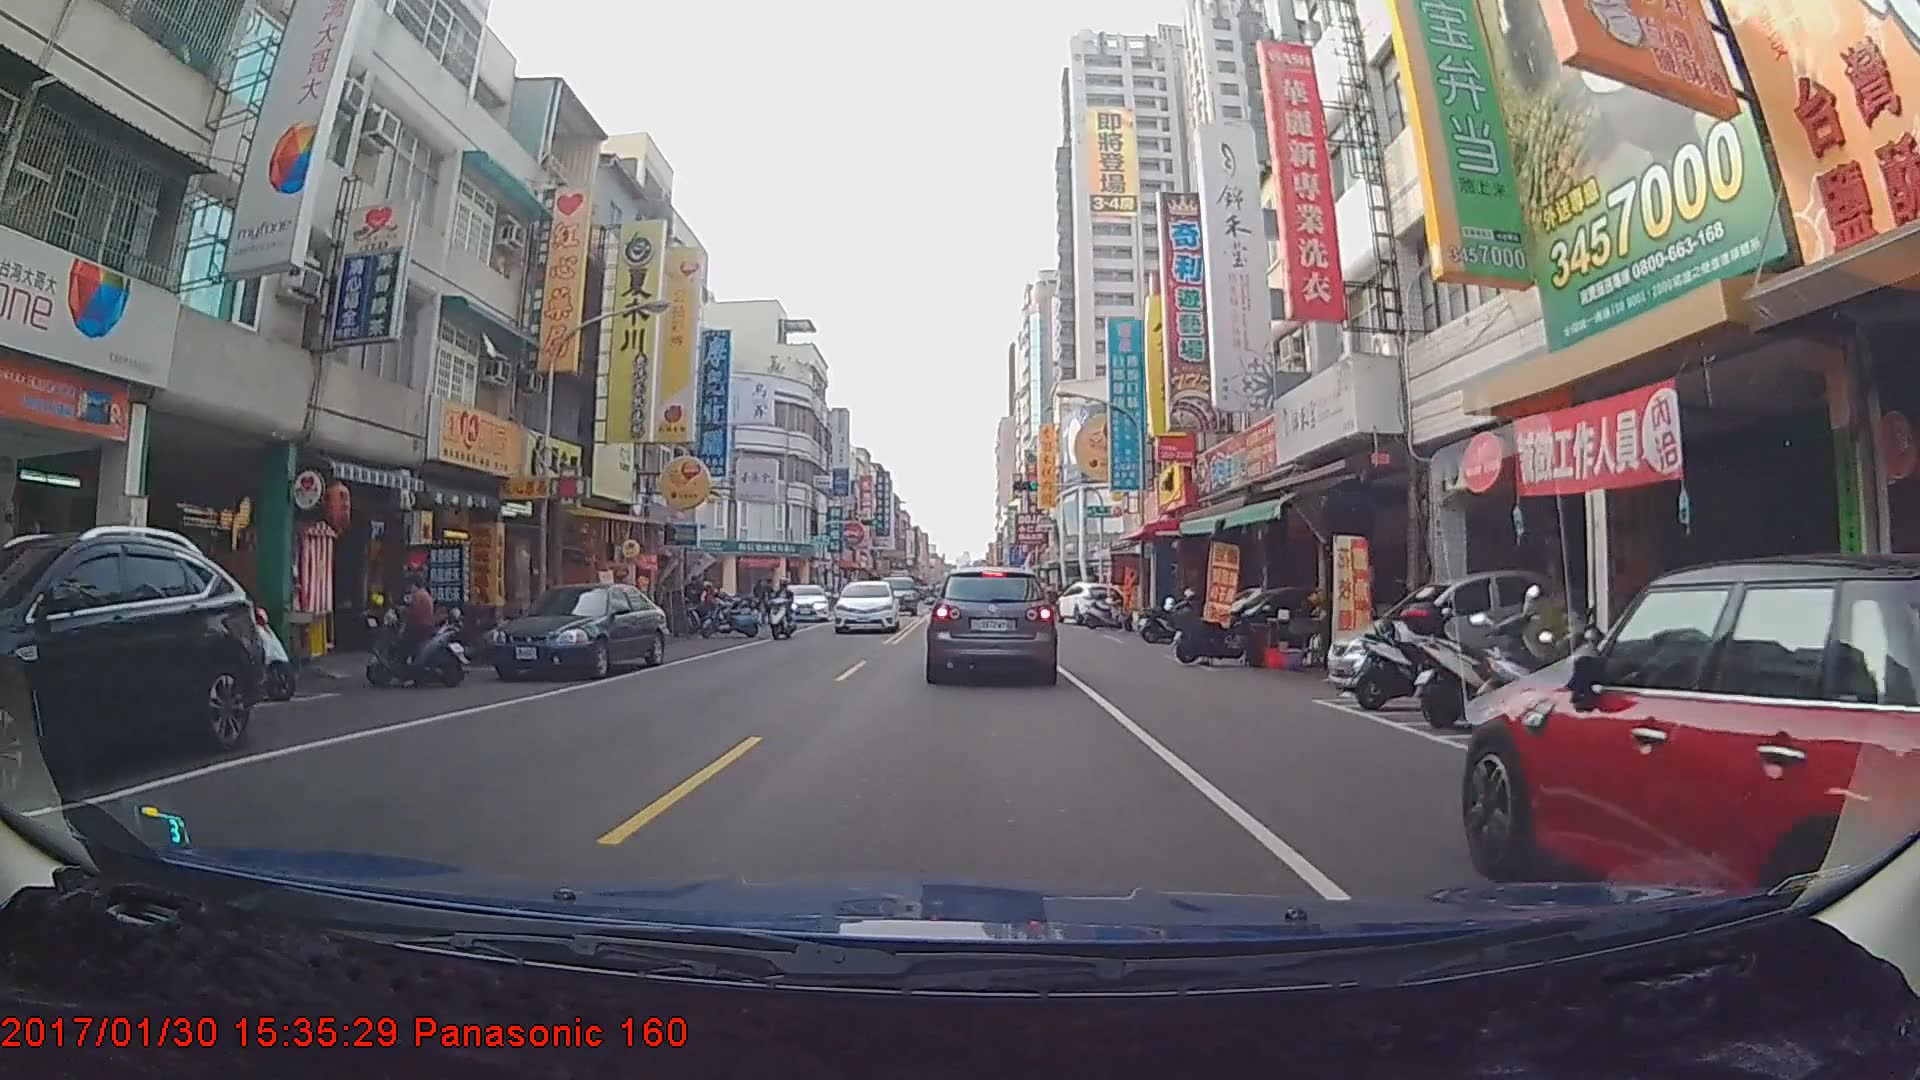rider: (360, 572, 479, 698), (767, 584, 798, 642)
vehicle: (1464, 556, 1920, 949), (0, 532, 260, 796), (488, 587, 672, 678), (925, 562, 1056, 680), (834, 580, 896, 634), (1055, 581, 1126, 628), (779, 581, 828, 621), (873, 577, 916, 618)
